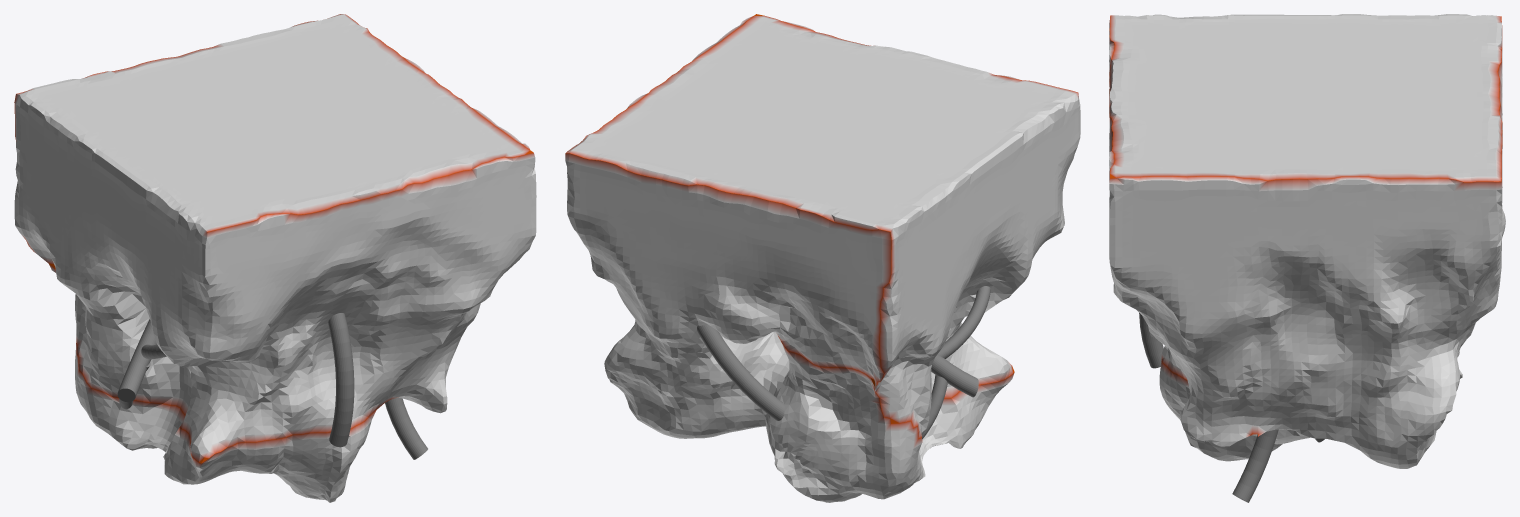
Rendered from c_floating_wbars.fbx.
3 views of the same model, side by side, from view 1: azimuth 30°, elevation 25°; view 2: azimuth 150°, elevation 25°; view 3: azimuth 270°, elevation 25° (orthographic). The views are drawn at different scales.
Parts seen in each view (by area): view 1: concretefloating_SeamsColor, PM3D_Cylinder3D1; view 2: concretefloating_SeamsColor, PM3D_Cylinder3D1; view 3: concretefloating_SeamsColor, PM3D_Cylinder3D1.
Part boxes in pixels (<box>): concretefloating_SeamsColor: <box>14,14,536,502</box>; PM3D_Cylinder3D1: <box>117,313,427,459</box>; concretefloating_SeamsColor: <box>565,14,1080,502</box>; PM3D_Cylinder3D1: <box>697,286,990,439</box>; concretefloating_SeamsColor: <box>1109,14,1505,468</box>; PM3D_Cylinder3D1: <box>1139,313,1324,502</box>.
Size of the model in its own units: 2.01 by 2.02 by 2.02.
